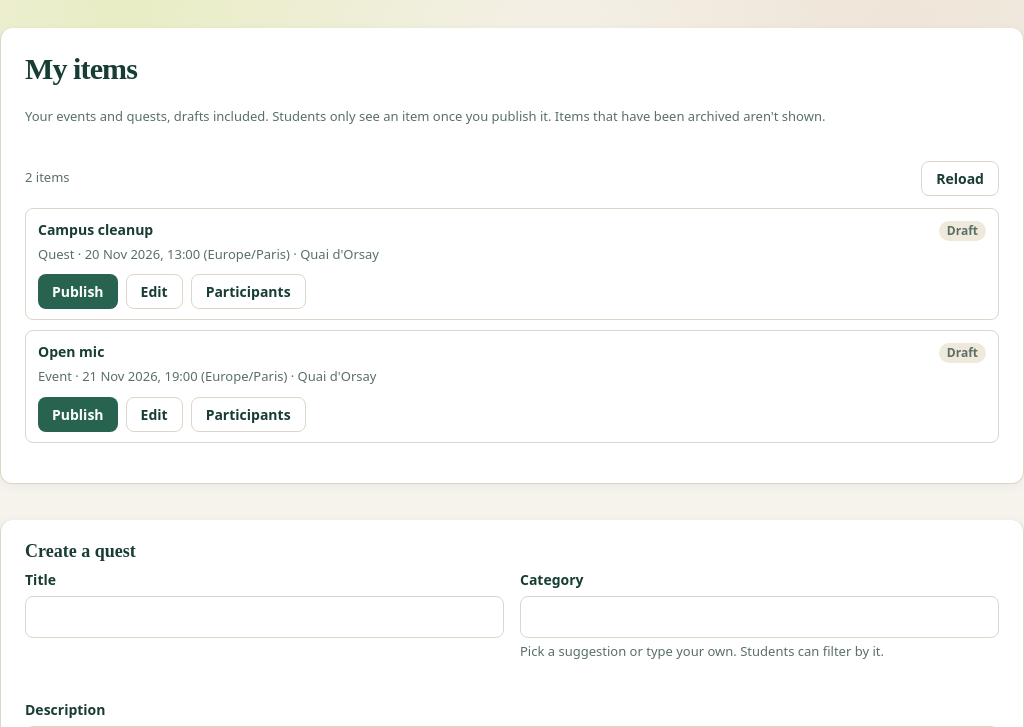
Test case: My items and publishing (QB-60) › keeps an archived-item conflict an error
Expected: the text "Campus cleanup" is shown, [38,218,153,240]
Click the button named "Publish \"Campus cleanup\"": (78, 292) [38,274,118,309]
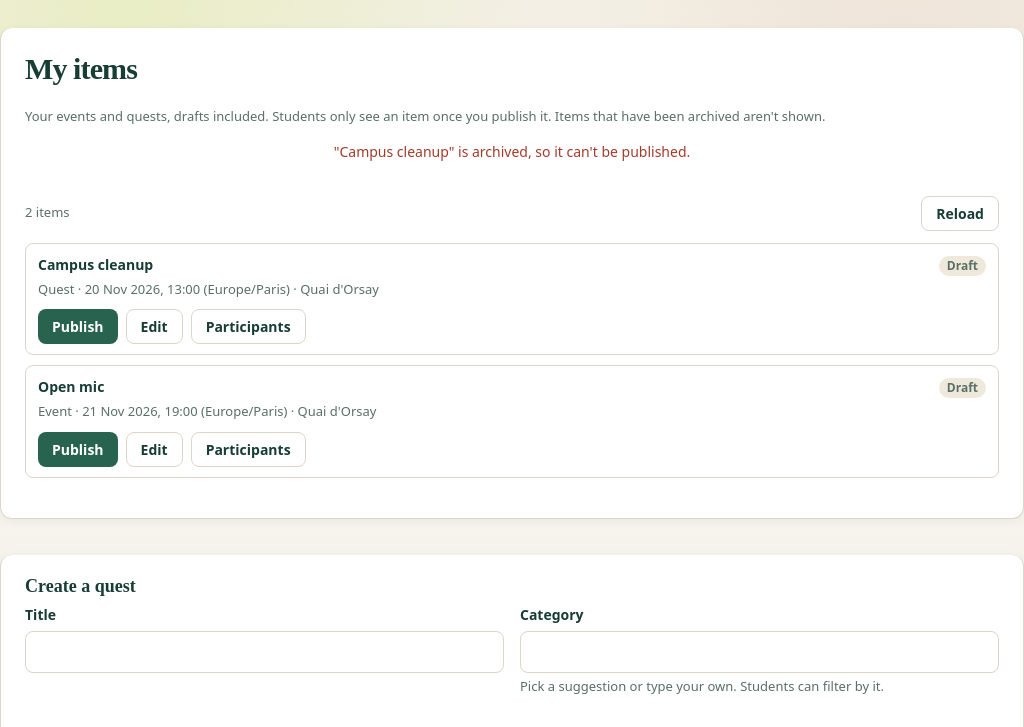
Expected: the message reads "\"Campus cleanup\" is archived, so it can't be published.", [334,142,690,160]
